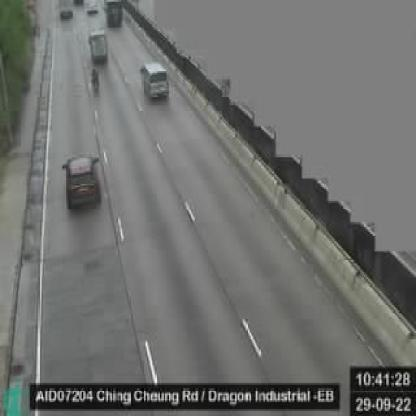Car: (61, 147, 101, 217), (134, 54, 172, 104), (83, 26, 113, 64), (100, 0, 129, 28), (56, 0, 74, 24)
